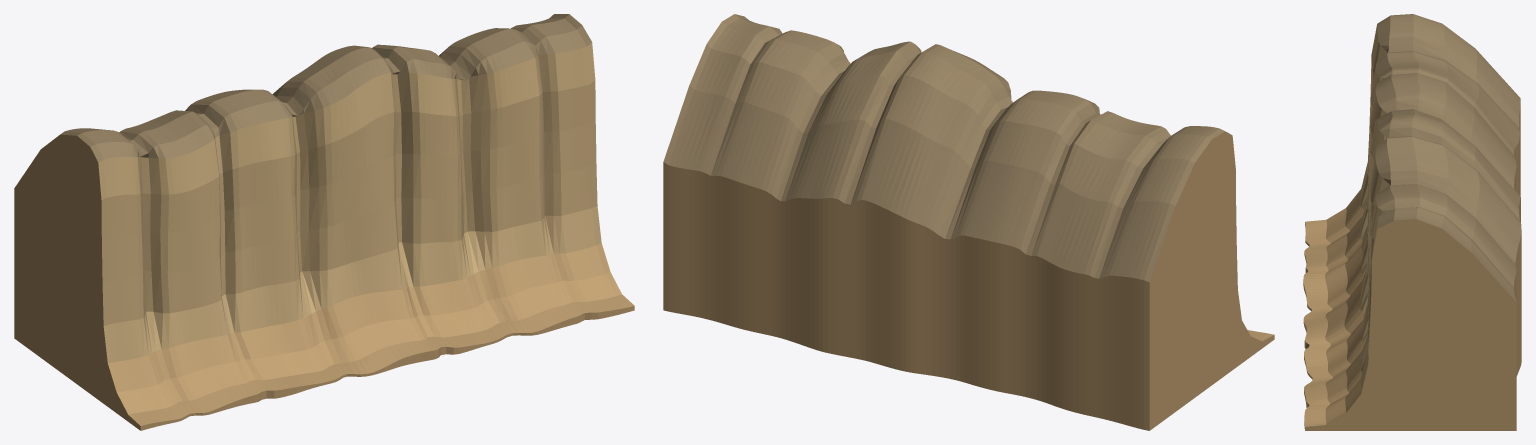
The picture shows the model from 3 angles, left to right: view 1: azimuth 30°, elevation 25°; view 2: azimuth 150°, elevation 25°; view 3: azimuth 270°, elevation 25°; orthographic projection. The views are drawn at different scales.
Visible parts, largest first — view 1: continuous_fine_silt_loess_bluff_with_unequal_vertical_joint; view 2: continuous_fine_silt_loess_bluff_with_unequal_vertical_joint; view 3: continuous_fine_silt_loess_bluff_with_unequal_vertical_joint.
Part boxes in pixels (left/top/right/bottom): continuous_fine_silt_loess_bluff_with_unequal_vertical_joint: left=14, top=14, right=634, bottom=430; continuous_fine_silt_loess_bluff_with_unequal_vertical_joint: left=663, top=14, right=1274, bottom=430; continuous_fine_silt_loess_bluff_with_unequal_vertical_joint: left=1303, top=14, right=1521, bottom=430.
Size of the model in its own units: 16 by 8.25 by 7.18.
